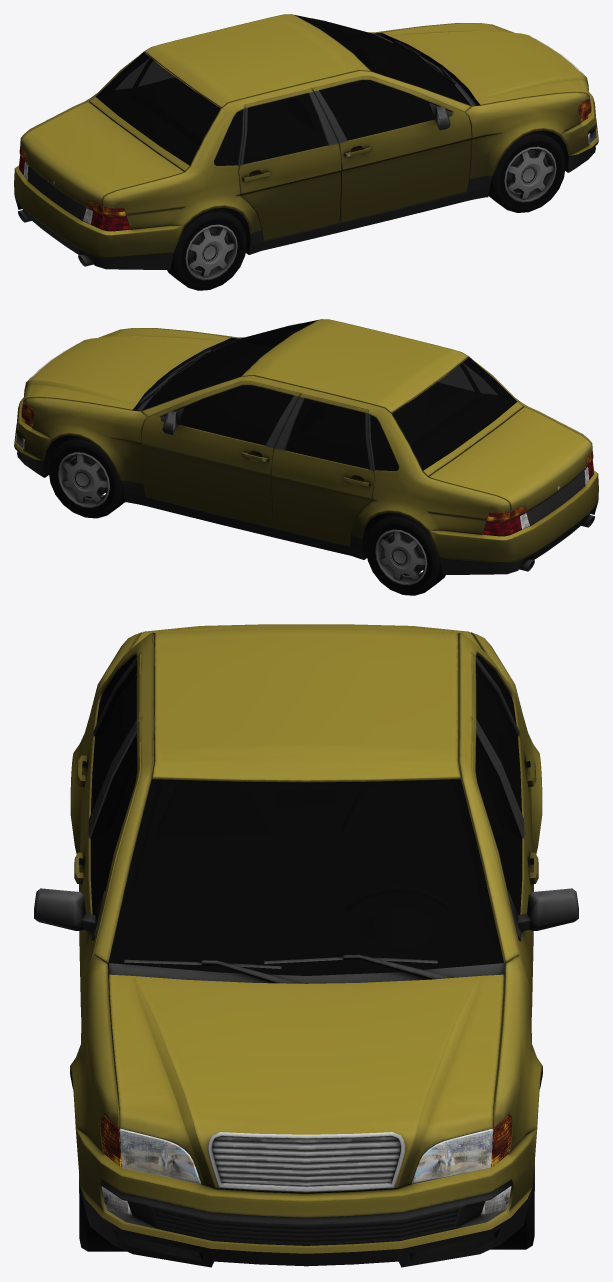
The model's file is seda.glb.
The picture shows the model from 3 angles, top to bottom: view 1: azimuth 30°, elevation 25°; view 2: azimuth 150°, elevation 25°; view 3: azimuth 270°, elevation 25°; orthographic projection. The views are drawn at different scales.
Parts seen in each view (by area): view 1: Carroceria, Roda_TD, Roda_DD; view 2: Carroceria, Roda_TE, Roda_DE; view 3: Carroceria, Roda_DD, Roda_DE.
Boxes of the visible parts, x1,y1,x2,y2 form: Carroceria: (14, 14, 598, 269); Roda_TD: (167, 208, 246, 290); Roda_DD: (488, 130, 565, 212); Carroceria: (14, 319, 598, 574); Roda_TE: (366, 513, 445, 595); Roda_DE: (48, 436, 124, 518); Carroceria: (34, 624, 578, 1267); Roda_DD: (79, 1174, 126, 1251); Roda_DE: (490, 1161, 534, 1249).
Bounding box in the file's own units: 4.36 × 1.34 × 1.94.
4 materials, 3 textured.
